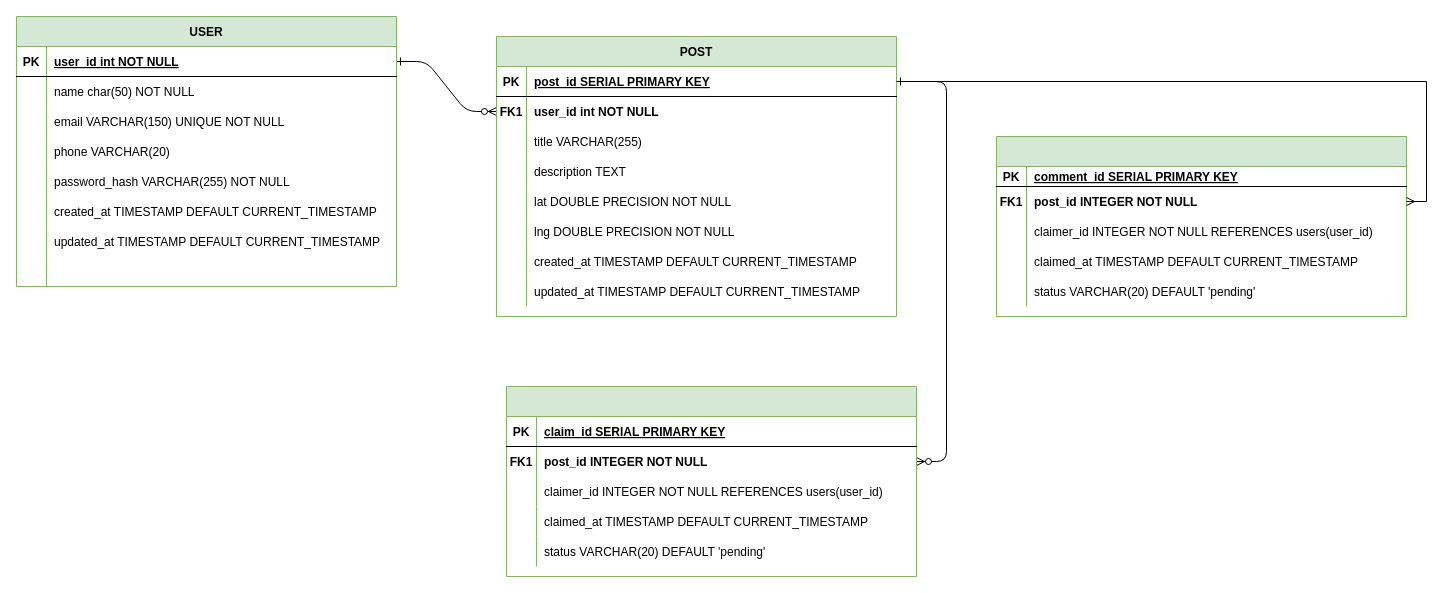
The diagram is 1443 pixels wide and 593 high, and some of its shapes have lost their labels. Here are the shapes that lost their labels. From the top down, the box of each, then its label:
(996, 136, 1406, 316): COMMENTS
(506, 386, 916, 576): CLAIMS
